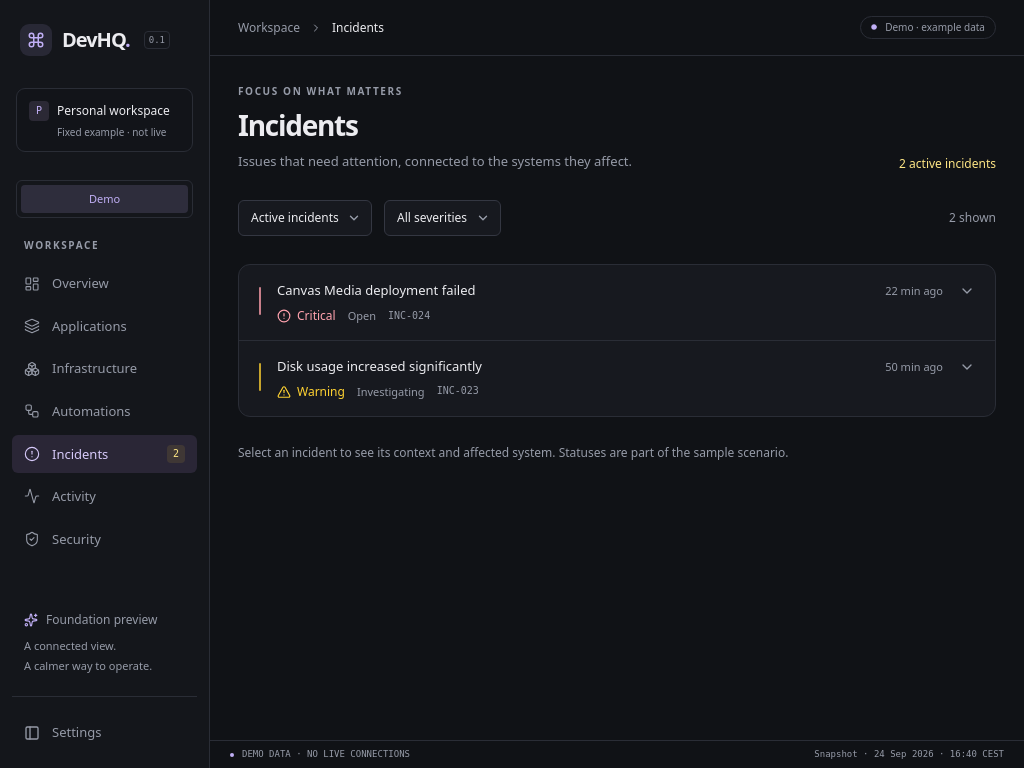
workspace navigation › filters incidents without changing sample statuses
Select "Critical" in the dropdown named "Incident severity" at (442, 218), box [384, 200, 501, 236]
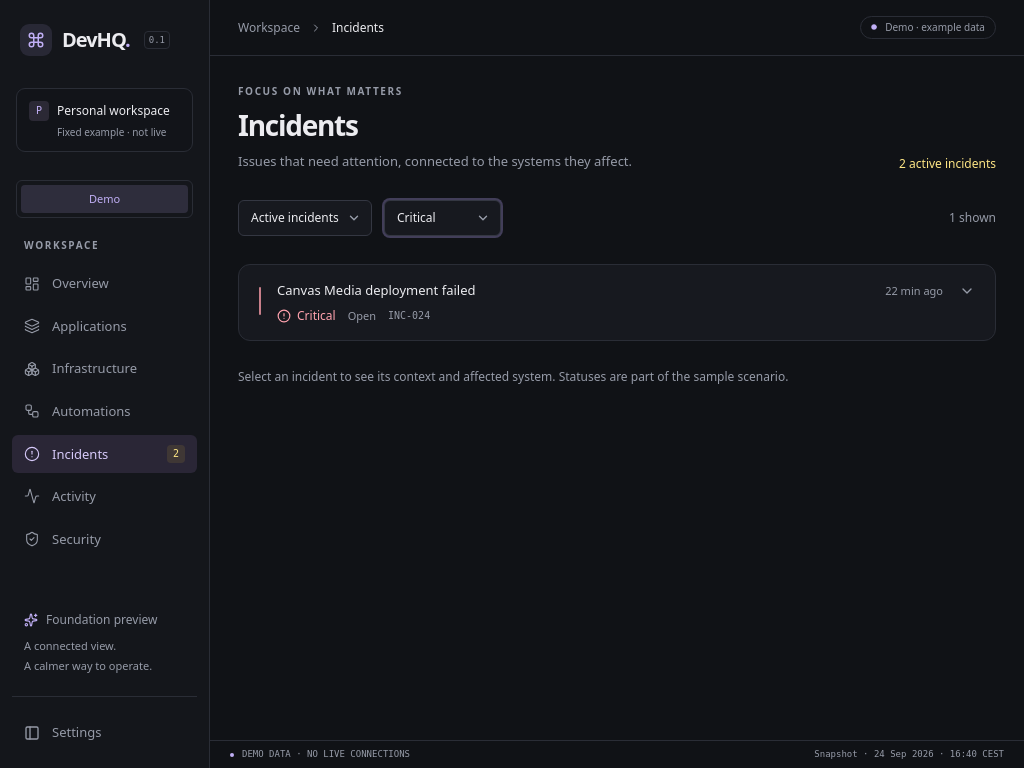
Expected: the text "Canvas Media deployment failed" is shown, [277, 281, 476, 299]
Expected: the heading "Disk usage increased significantly" is gone
Select "Resolved" in the dropdown named "Incident status" at (305, 218), box [238, 200, 372, 236]
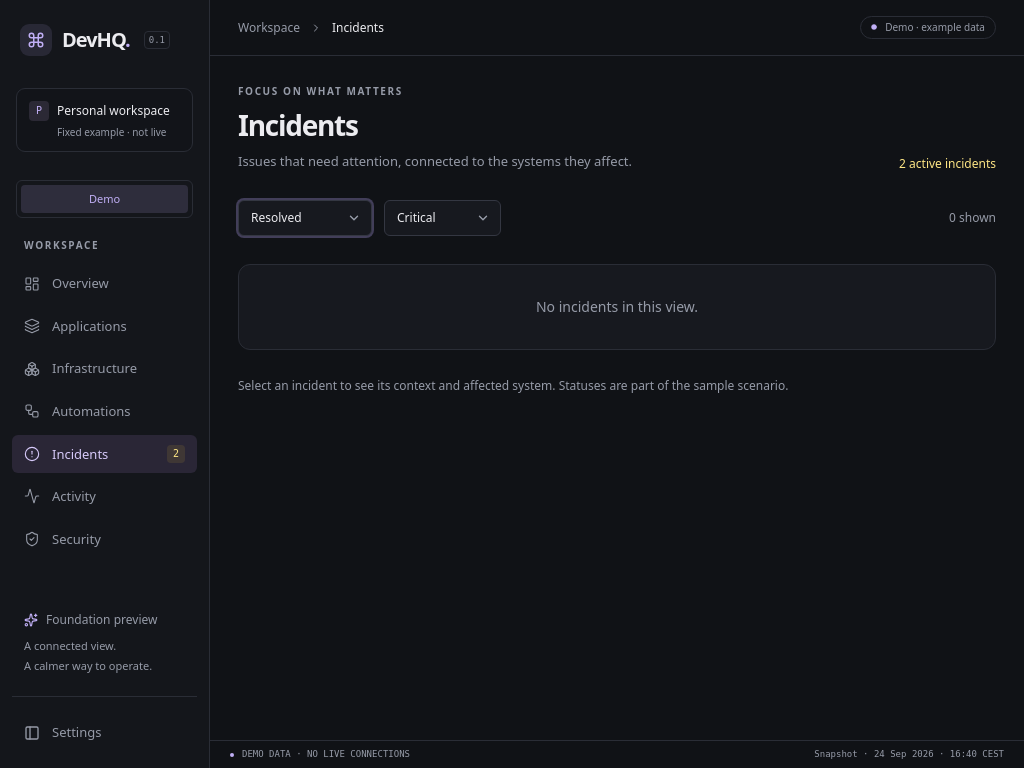
Expected: the text "No incidents in this view." is shown, [536, 297, 698, 316]
